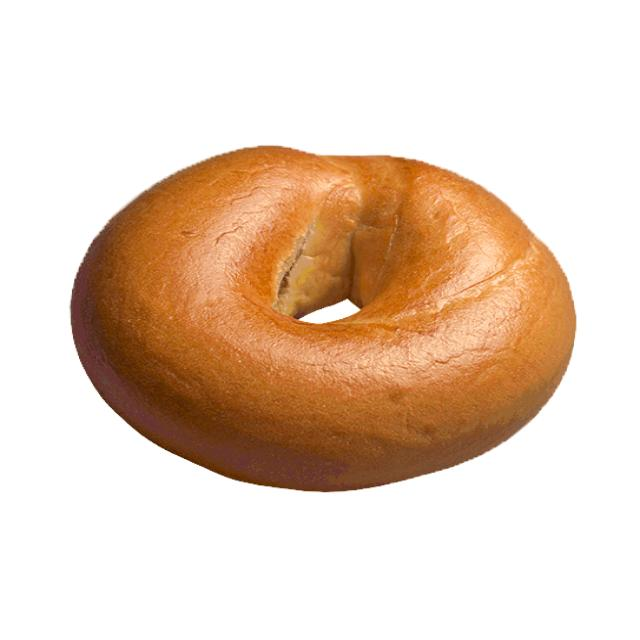Bagel: (72, 146, 574, 491)
